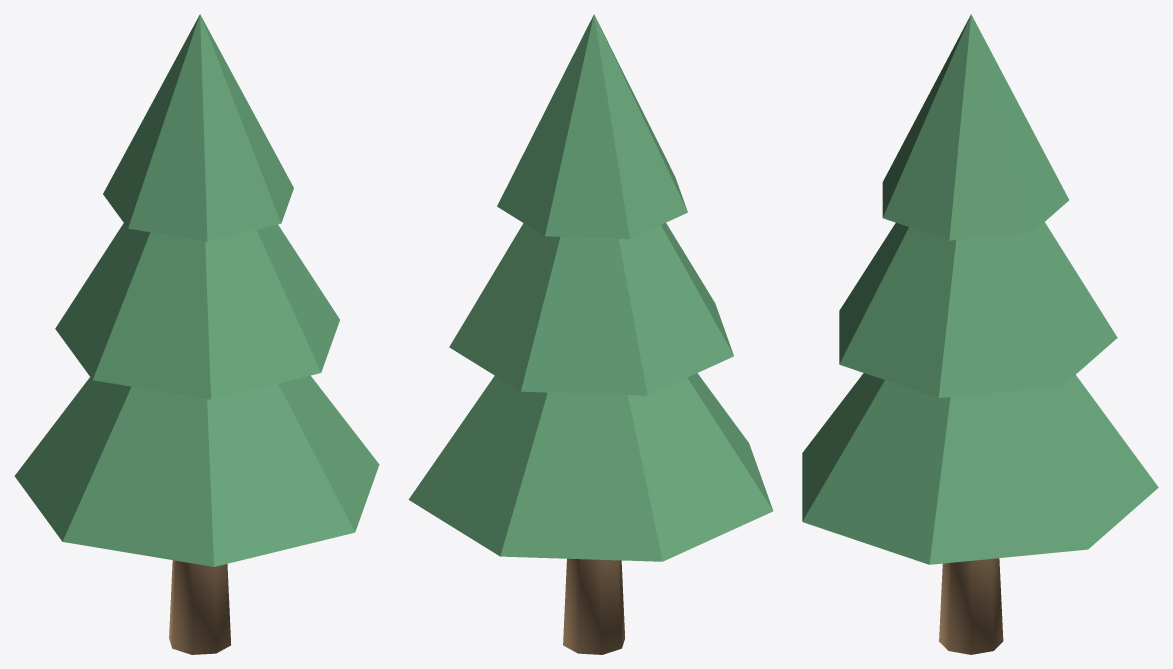
File: pine-cluster.glb
The picture shows the model from 3 angles, left to right: view 1: azimuth 30°, elevation 25°; view 2: azimuth 150°, elevation 25°; view 3: azimuth 270°, elevation 25°; orthographic projection.
Visible parts, largest first — view 1: PineCluster; view 2: PineCluster; view 3: PineCluster.
Part boxes in pixels (x1,y1,x2,y2): PineCluster: [14, 14, 379, 654]; PineCluster: [408, 14, 773, 654]; PineCluster: [802, 14, 1158, 654].
Size of the model in its own units: 2.05 by 3.88 by 2.
